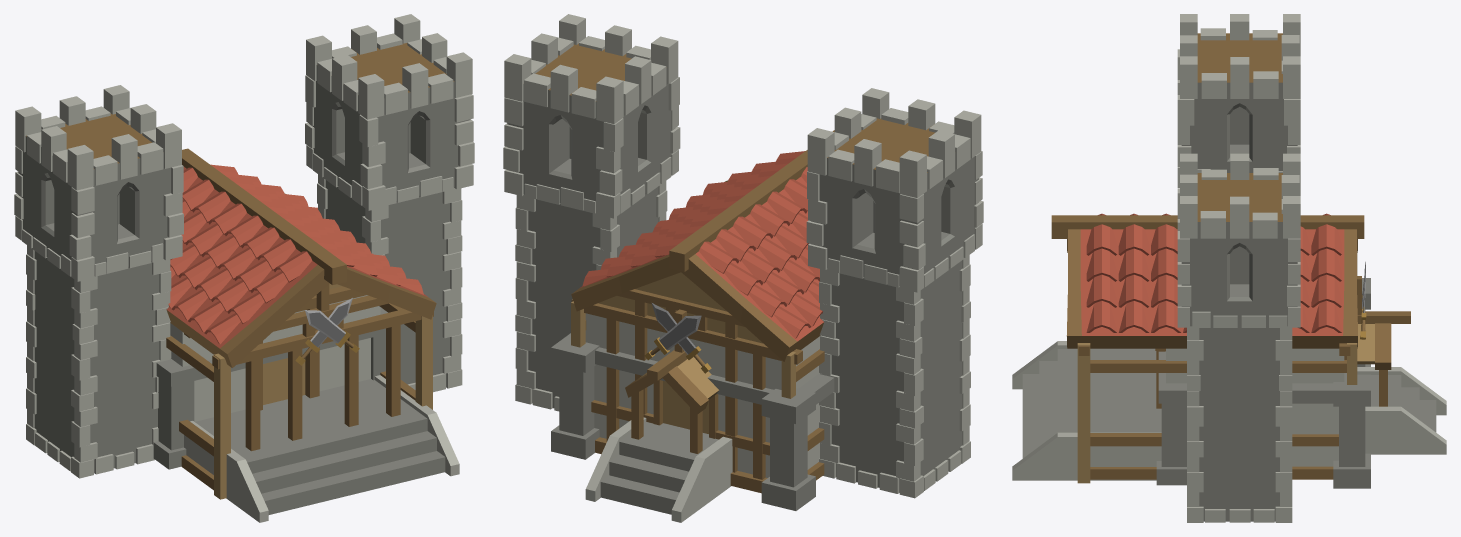
File: Barracks-dvlksXgxWc.glb
3 views of the same model, side by side, from view 1: azimuth 30°, elevation 25°; view 2: azimuth 150°, elevation 25°; view 3: azimuth 270°, elevation 25° (orthographic). The views are drawn at different scales.
Visible parts, largest first — view 1: Barracks_SecondAge_Level2; view 2: Barracks_SecondAge_Level2; view 3: Barracks_SecondAge_Level2.
Boxes of the visible parts, x1,y1,x2,y2 form: Barracks_SecondAge_Level2: (14, 14, 474, 522); Barracks_SecondAge_Level2: (503, 14, 983, 522); Barracks_SecondAge_Level2: (1012, 14, 1446, 522).
Size of the model in its own units: 1.71 by 1.35 by 1.64.
